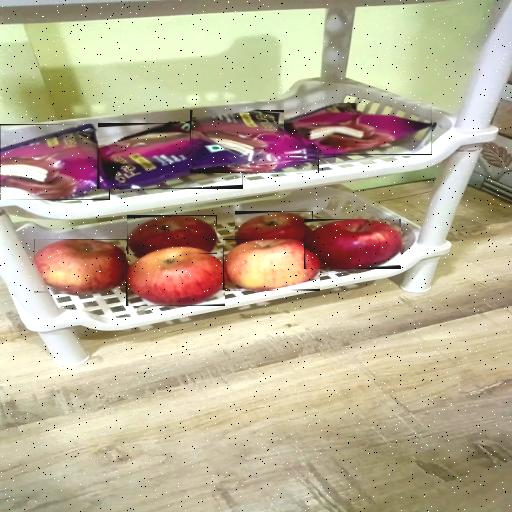Apple: (127, 247, 225, 306), (223, 239, 320, 290), (34, 240, 128, 292), (304, 219, 400, 269), (128, 216, 217, 254), (237, 212, 313, 244)
Choco Pie: (98, 123, 243, 189), (0, 124, 109, 200), (192, 110, 318, 173), (285, 103, 432, 155)
